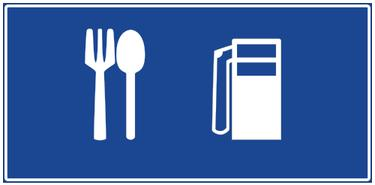Petrol Pump- Gas Station: (198, 19, 297, 161)
